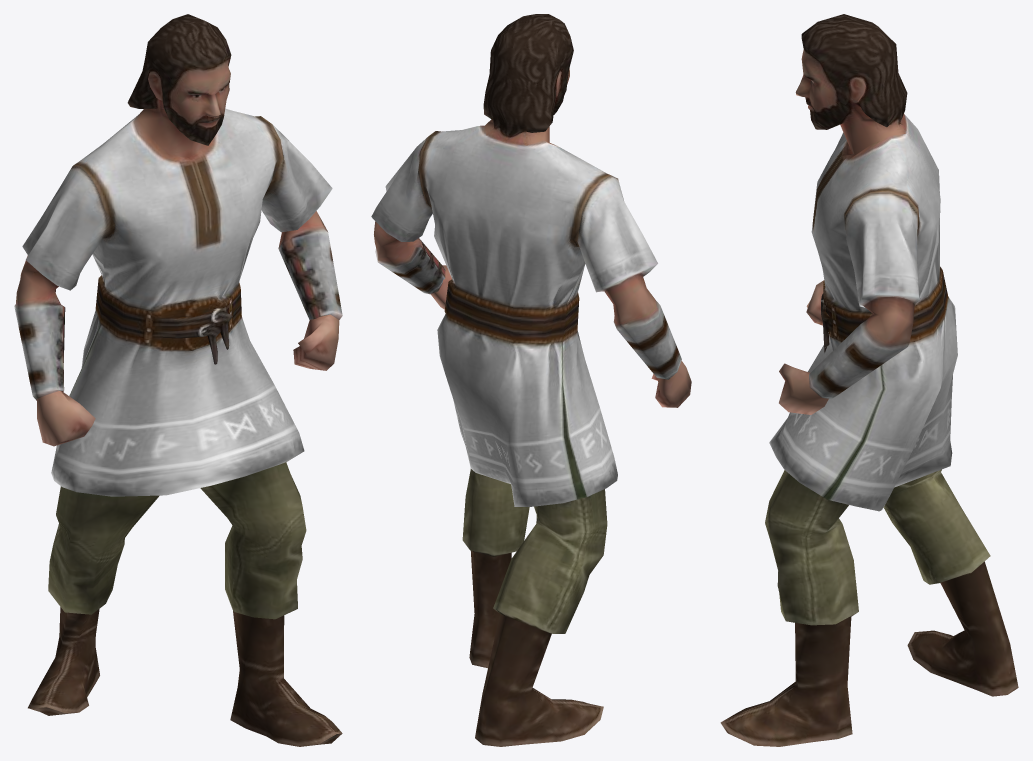
Rendered from body-base.glb.
3 renders of one model, left to right at view 1: azimuth 30°, elevation 25°; view 2: azimuth 150°, elevation 25°; view 3: azimuth 270°, elevation 25°, orthographic. The views are drawn at different scales.
Bounding box in the file's own units: 0.9127 × 2 × 0.7893.
Materials: 1 (1 with a texture image).
